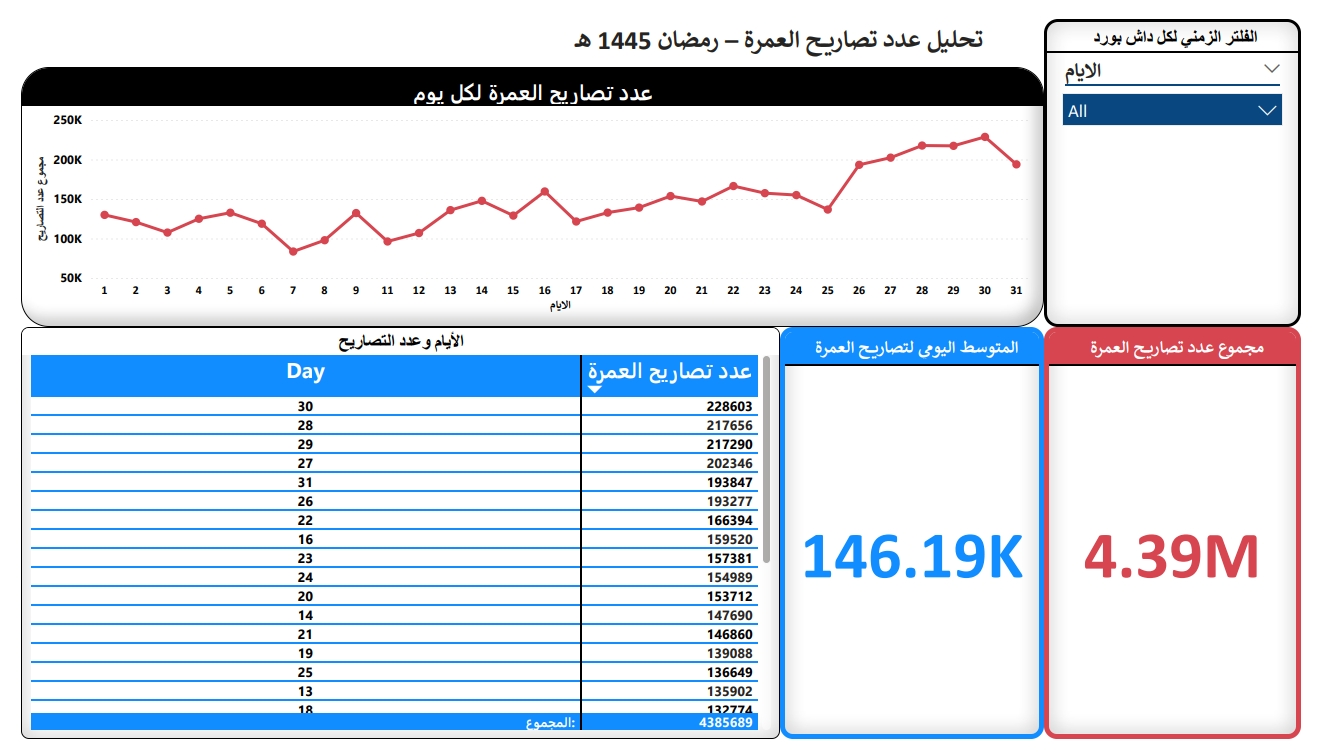

The page's visual inventory and layout, read from the dashboard file:
{"tool":"powerbi","page":{"name":"Dashboard ","canvas":[1280,720],"ordinal":4},"visuals":[{"type":"card","title":" مجموع عدد تصاريح العمرة","fields":{"Values":["Sum(تصاريح العمرة في رمضان.عدد تصاريح العمرة)"]},"box":[1023,308,257,412],"z":0},{"type":"lineChart","title":"عدد تصاريح العمرة لكل يوم","fields":{"Category":["تصاريح العمرة في رمضان.اليوم ميلادي.Variation.Date Hierarchy.Day"],"Y":["Sum(تصاريح العمرة في رمضان.عدد تصاريح العمرة)"]},"box":[0,47.7,1023.2,260.7],"z":1000},{"type":"card","title":" المتوسط اليومي لتصاريح العمرة","fields":{"Values":["تصاريح العمرة في رمضان.Average_Permits"]},"box":[759,308,264,412],"z":2000},{"type":"tableEx","title":"الأيام وعدد التصاريح","fields":{"Values":["تصاريح العمرة في رمضان.اليوم ميلادي.Variation.Date Hierarchy.Day","Sum(تصاريح العمرة في رمضان.عدد تصاريح العمرة)"]},"box":[0,308,759,412],"z":3000},{"type":"slicer","title":"الفلتر الزمني لكل داش بورد","fields":{"Values":["تصاريح العمرة في رمضان.اليوم ميلادي"]},"box":[1023,0,257,308],"z":4000},{"type":"textbox","box":[528.1,0,461,47.7],"z":4001}]}

Visuals, with their boxes in screenshot pixels (x1, y1, x2, y2), scaled from the page's 1280x720 canvas onto the 1323x755 screenshot:
" مجموع عدد تصاريح العمرة" card: l=1057, t=323, r=1322, b=754
"عدد تصاريح العمرة لكل يوم" lineChart: l=0, t=50, r=1058, b=323
" المتوسط اليومي لتصاريح العمرة" card: l=784, t=323, r=1057, b=754
"الأيام وعدد التصاريح" tableEx: l=0, t=323, r=784, b=754
"الفلتر الزمني لكل داش بورد" slicer: l=1057, t=0, r=1322, b=323
textbox: l=546, t=0, r=1022, b=50
